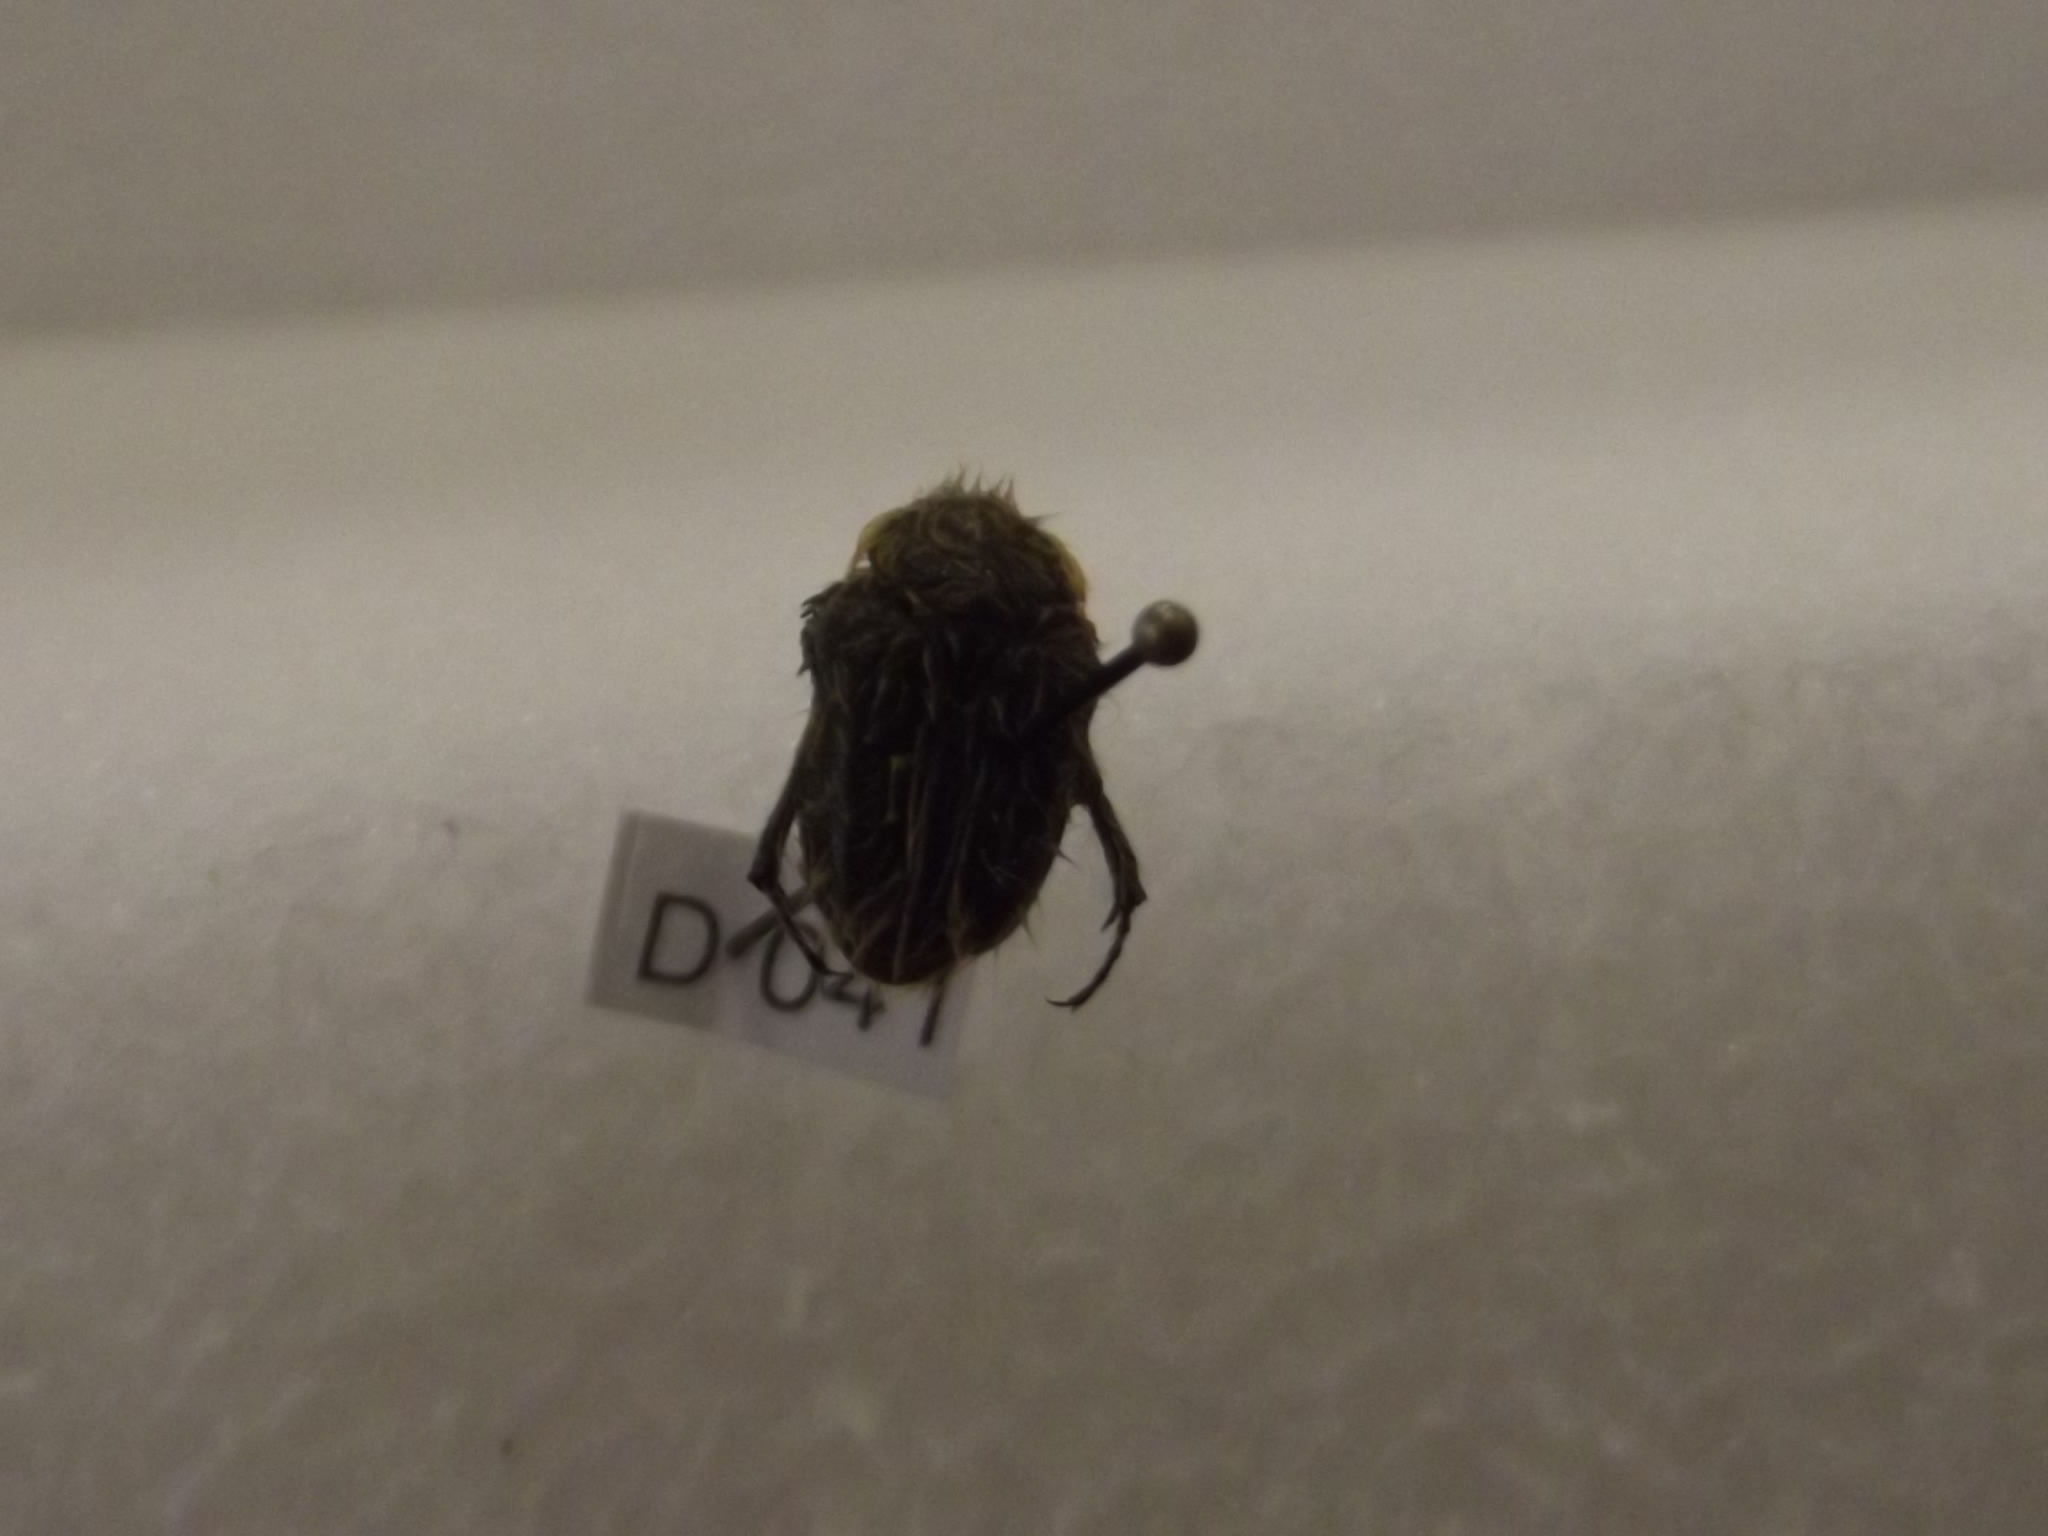Tropinota_senicula: (735, 460, 1153, 1034)
